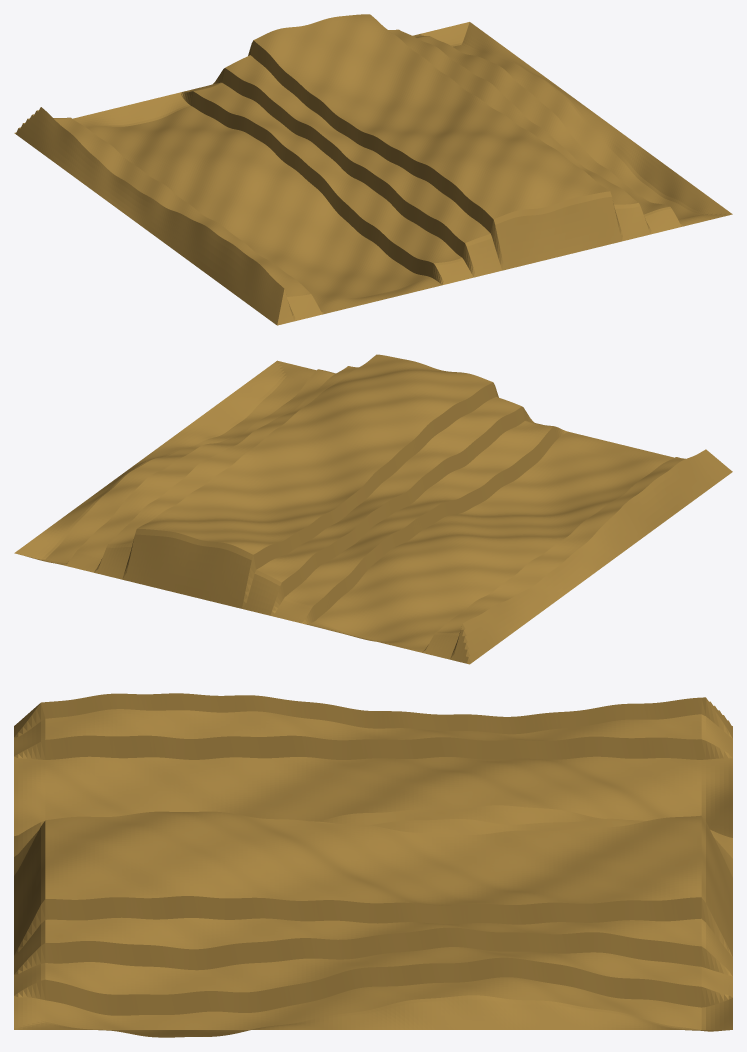
The model's file is amber_wheat_terraces.obj.
3 renders of one model, top to bottom at view 1: azimuth 30°, elevation 25°; view 2: azimuth 150°, elevation 25°; view 3: azimuth 270°, elevation 25°, orthographic. The views are drawn at different scales.
Parts seen in each view (by area): view 1: amber_wheat_terraces; view 2: amber_wheat_terraces; view 3: amber_wheat_terraces.
Boxes of the visible parts, bbox=[...] form: amber_wheat_terraces: bbox=[14, 14, 732, 325]; amber_wheat_terraces: bbox=[14, 354, 732, 664]; amber_wheat_terraces: bbox=[14, 693, 732, 1037].
Size of the model in its own units: 160 by 24.19 by 160.
